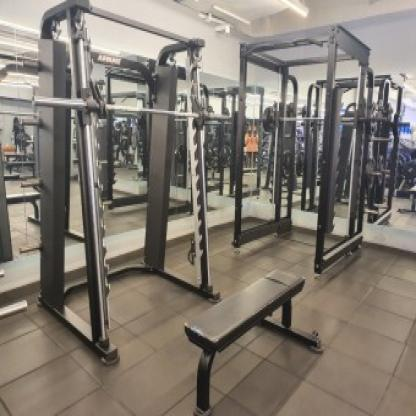smith machine: (33, 1, 222, 365), (233, 26, 372, 278)
